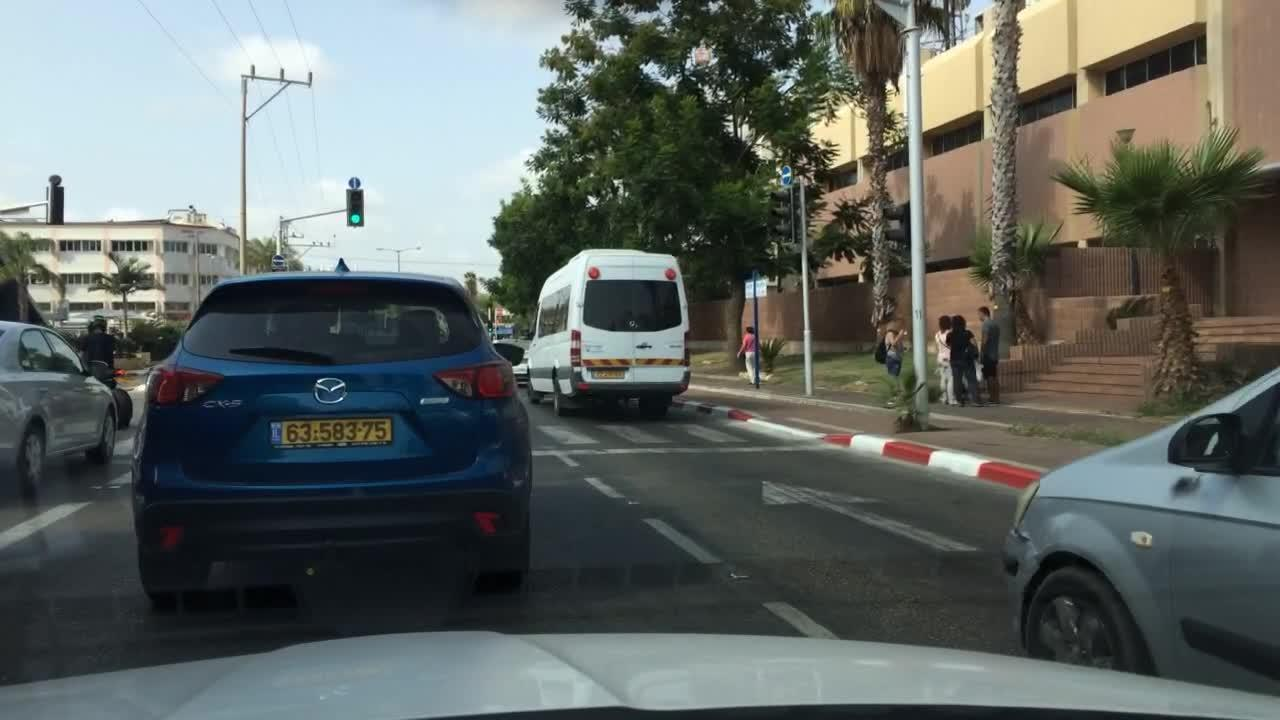Mazda: (307, 373, 363, 409)
